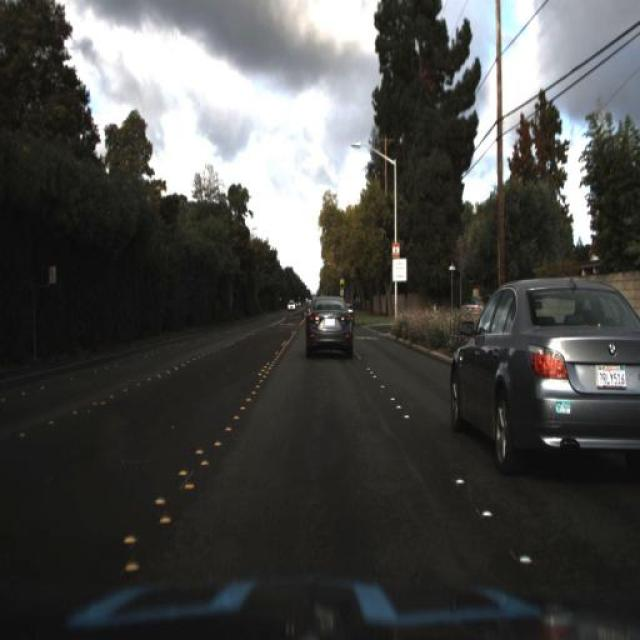car: (448, 266, 634, 472), (300, 290, 358, 362)
